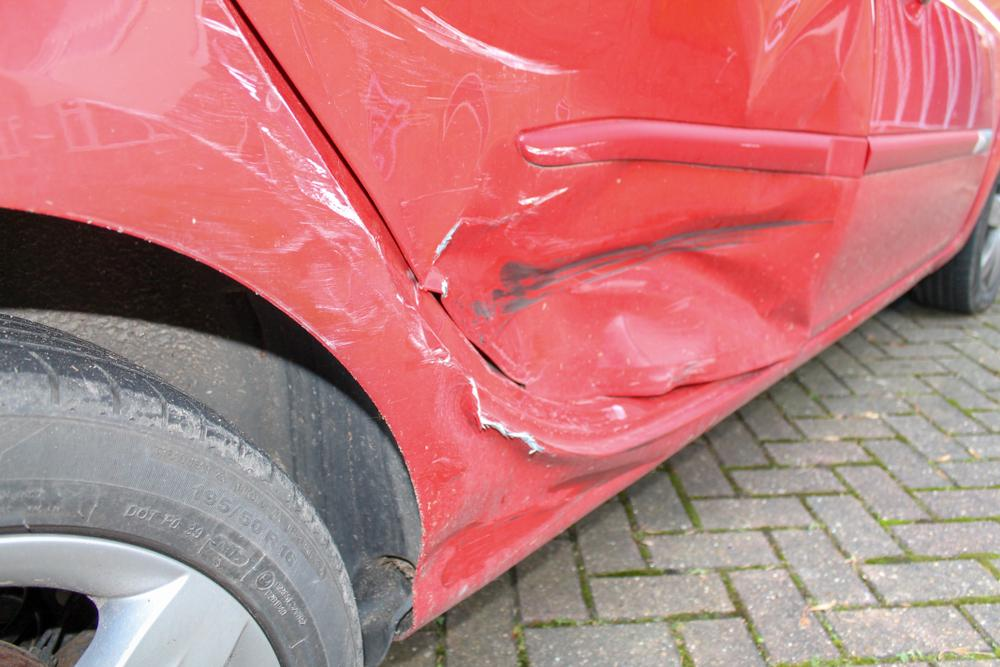dent: (431, 160, 845, 402)
scratch: (77, 11, 555, 463), (328, 0, 579, 105)
